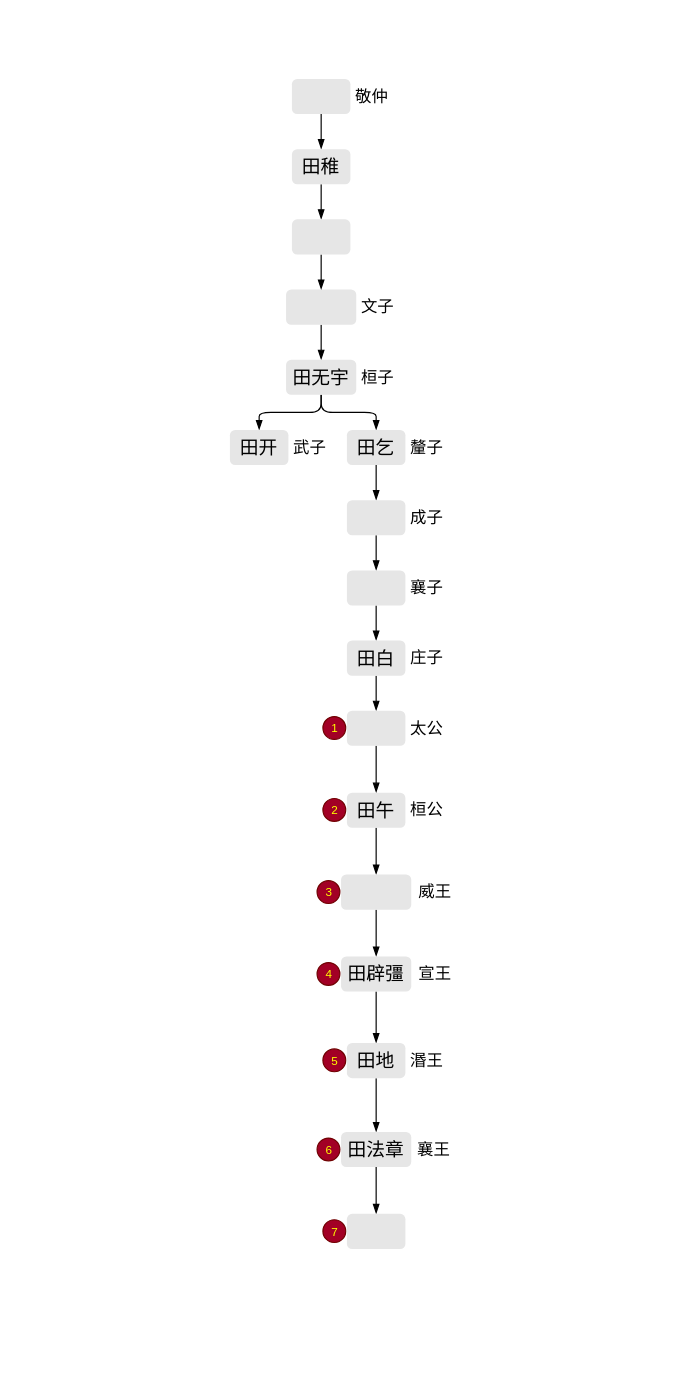
The diagram is 683 pixels wide and 1374 high, and some of its shapes have lost their labels. Each missing label, with the box of its shape:
田和: (346, 710, 405, 745)
田因齐: (340, 874, 411, 909)
田常: (346, 500, 405, 535)
田建: (346, 1213, 405, 1248)
田湣: (291, 219, 350, 254)
田盤: (346, 570, 405, 605)
田须无: (285, 289, 356, 324)
陈完: (291, 78, 350, 113)
